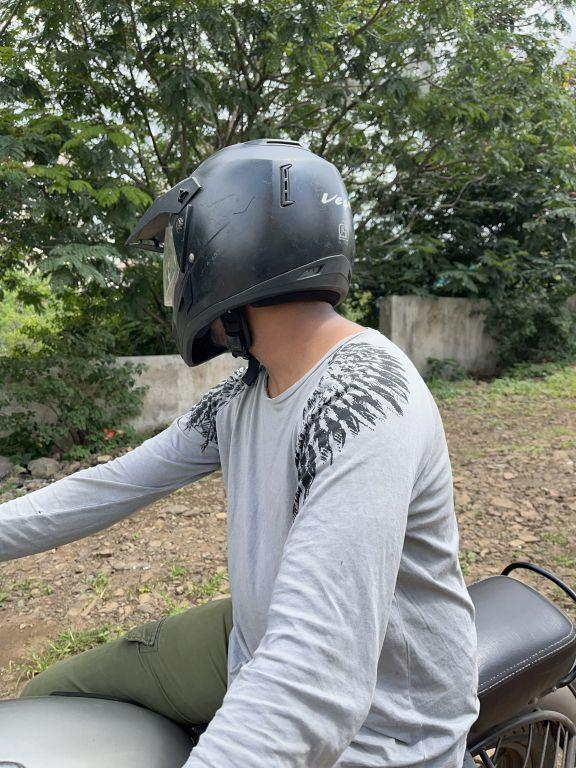helmet: (130, 120, 370, 381)
